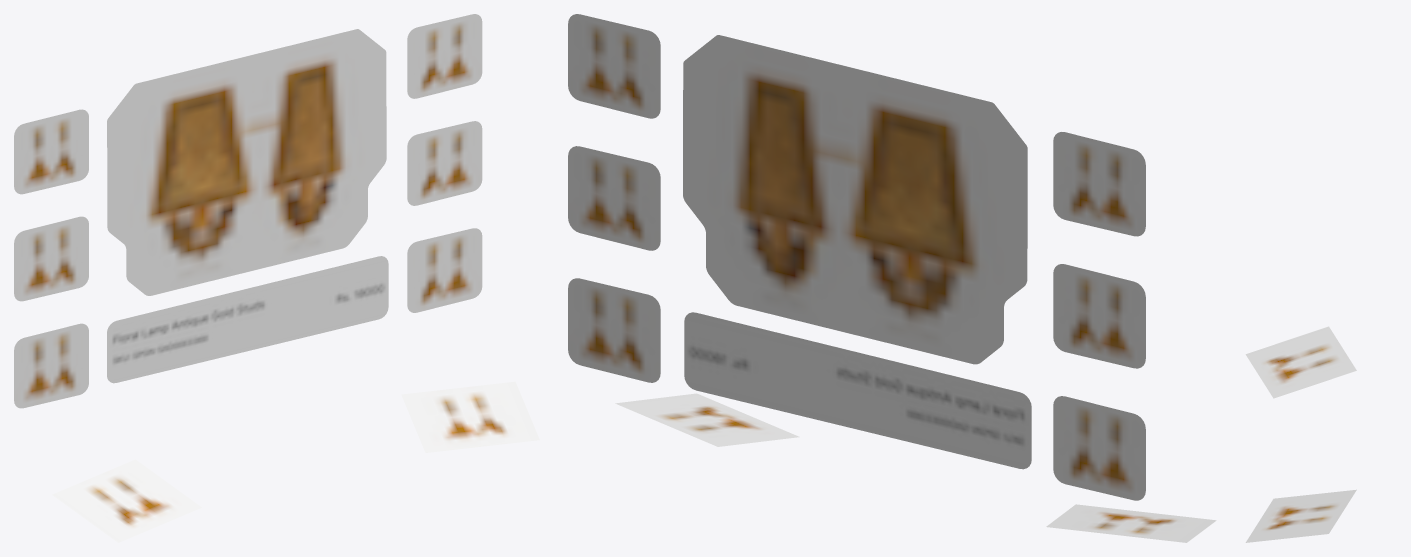
File: displayCentered.glb
The picture shows the model from 3 angles, left to right: view 1: azimuth 30°, elevation 25°; view 2: azimuth 150°, elevation 25°; view 3: azimuth 270°, elevation 25°; orthographic projection. The views are drawn at different scales.
Parts seen in each view (by area): view 1: mainDisplay, description, deskDisplayRight, deskDisplayLeft, sideDisplayRight2, sideDisplayRight3, sideDisplayRight1, sideDisplayLeft1, sideDisplayLeft2, sideDisplayLeft3; view 2: mainDisplay, description, sideDisplayRight1, sideDisplayLeft1, sideDisplayLeft3, sideDisplayRight3, sideDisplayRight2, sideDisplayLeft2, deskDisplayRight, deskDisplayLeft; view 3: deskDisplayLeft, deskDisplayRight.
Boxes of the visible parts, bbox=[...] form: mainDisplay: bbox=[107, 29, 386, 295]; description: bbox=[107, 256, 388, 383]; deskDisplayRight: bbox=[401, 381, 539, 452]; deskDisplayLeft: bbox=[52, 459, 201, 542]; sideDisplayRight2: bbox=[407, 121, 482, 205]; sideDisplayRight3: bbox=[407, 14, 482, 98]; sideDisplayRight1: bbox=[407, 228, 482, 312]; sideDisplayLeft1: bbox=[14, 109, 88, 194]; sideDisplayLeft2: bbox=[14, 216, 88, 301]; sideDisplayLeft3: bbox=[14, 323, 88, 408]; mainDisplay: bbox=[683, 35, 1027, 364]; description: bbox=[684, 312, 1031, 469]; sideDisplayRight1: bbox=[568, 278, 660, 382]; sideDisplayLeft1: bbox=[1053, 132, 1145, 236]; sideDisplayLeft3: bbox=[1053, 396, 1145, 500]; sideDisplayRight3: bbox=[568, 14, 660, 118]; sideDisplayRight2: bbox=[568, 146, 660, 250]; sideDisplayLeft2: bbox=[1053, 264, 1145, 368]; deskDisplayRight: bbox=[615, 393, 799, 446]; deskDisplayLeft: bbox=[1046, 504, 1216, 542]; deskDisplayLeft: bbox=[1245, 326, 1356, 398]; deskDisplayRight: bbox=[1245, 489, 1356, 542].
Size of the model in its own units: 3.3 by 2.52 by 1.
1 material, 1 textured.
